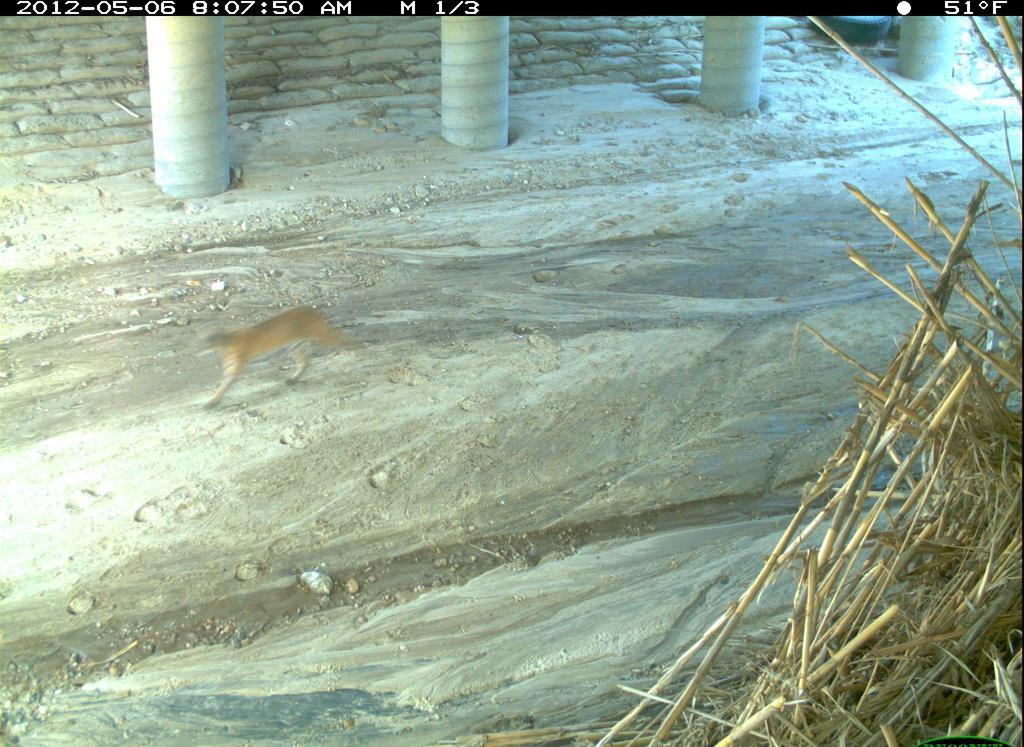bobcat: (182, 304, 367, 427)
